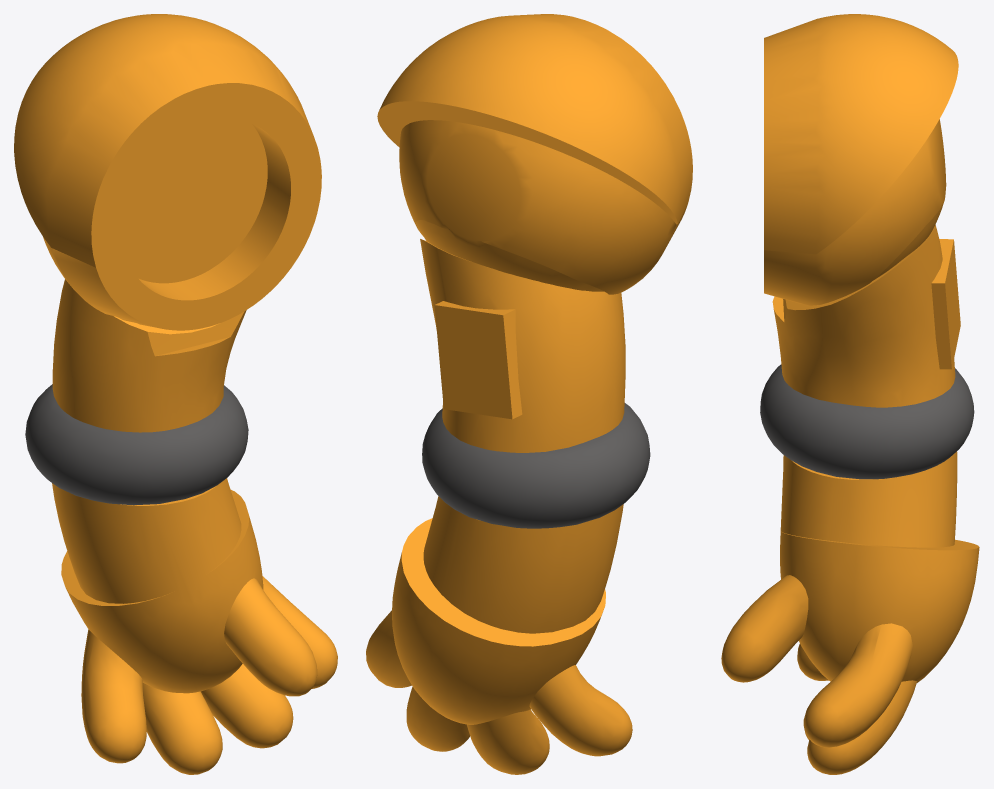
File: Astronaute_Arm.gltf
3 views of the same model, side by side, from view 1: azimuth 30°, elevation 25°; view 2: azimuth 150°, elevation 25°; view 3: azimuth 270°, elevation 25° (orthographic). The views are drawn at different scales.
Parts seen in each view (by area): view 1: BLACK_PARTS.009; view 2: BLACK_PARTS.009; view 3: BLACK_PARTS.009.
Part boxes in pixels (x1,y1,x2,y2): BLACK_PARTS.009: (14,14,337,774); BLACK_PARTS.009: (366,14,692,774); BLACK_PARTS.009: (721,14,979,774).
Bounding box in the file's own units: 23.23 × 55.04 × 18.17.
Materials: 1 (1 with a texture image).
